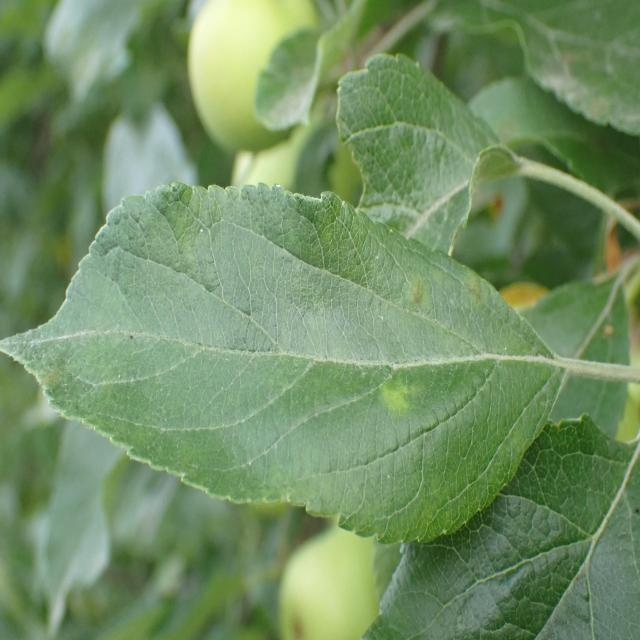scab: (12, 213, 520, 541)
